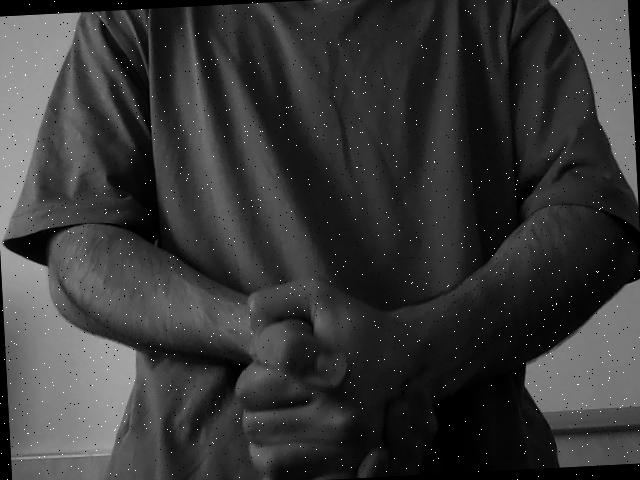friend: (228, 272, 451, 480)
